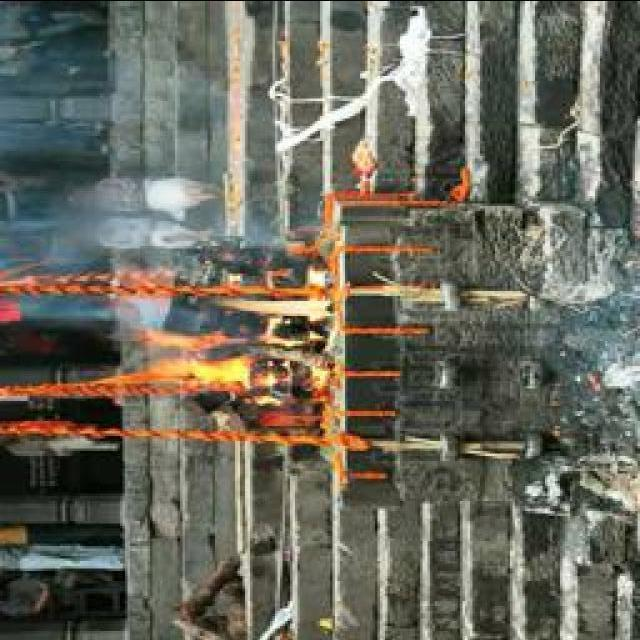Fire: (122, 281, 328, 398)
